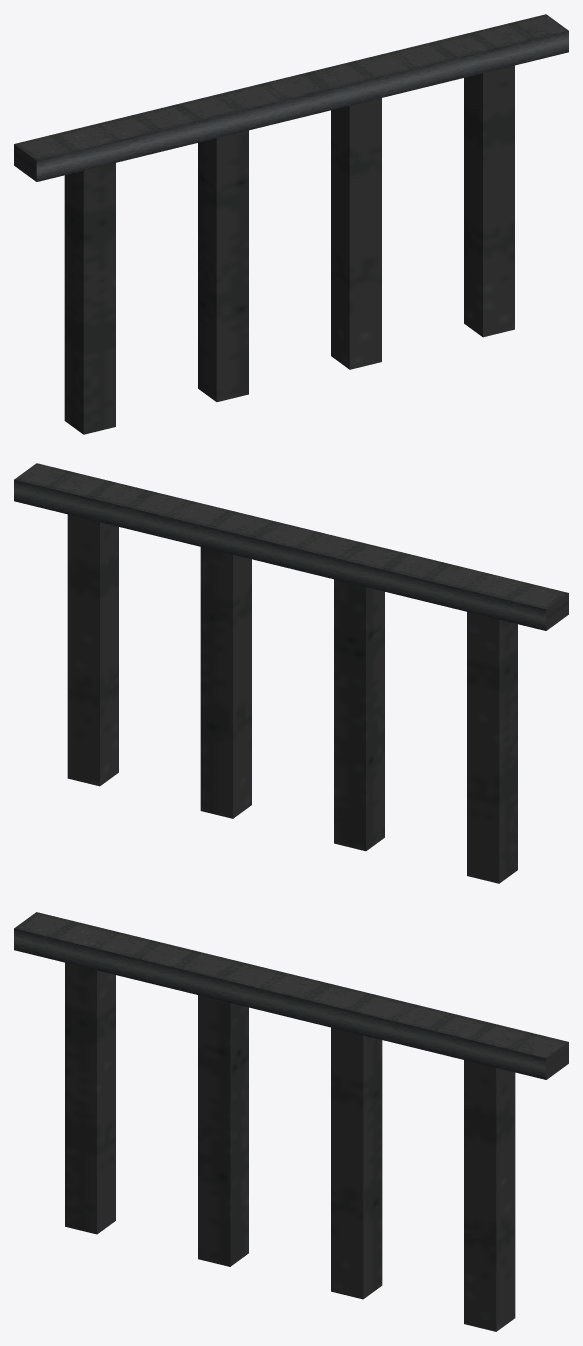
The model's file is Fence.fbx.
3 views of the same model, one above another, from view 1: azimuth 30°, elevation 25°; view 2: azimuth 150°, elevation 25°; view 3: azimuth 330°, elevation 25° (orthographic).
Parts seen in each view (by area): view 1: Fence; view 2: Fence; view 3: Fence.
Boxes of the visible parts, left/top/right/bottom form: Fence: left=14, top=14, right=568, bottom=434; Fence: left=14, top=463, right=568, bottom=883; Fence: left=14, top=912, right=568, bottom=1331.
Size of the model in its own units: 200 by 103 by 14.67.
